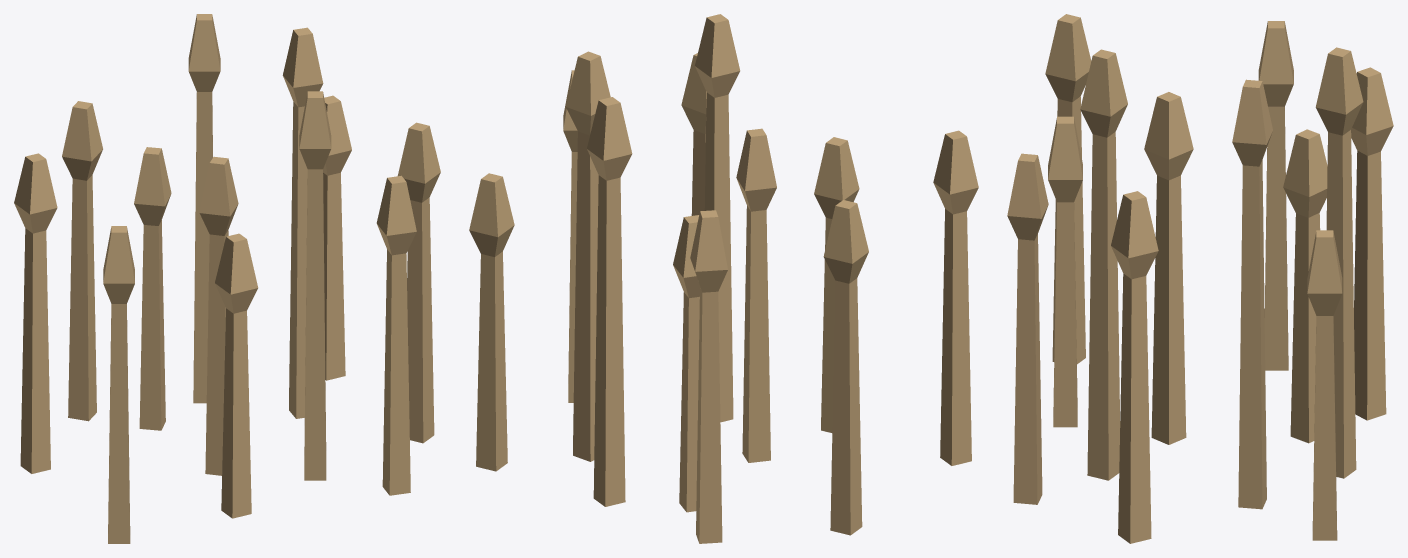
File: crops_wheatStageB.glb
3 renders of one model, left to right at view 1: azimuth 30°, elevation 25°; view 2: azimuth 150°, elevation 25°; view 3: azimuth 270°, elevation 25°, orthographic. The views are drawn at different scales.
Visible parts, largest first — view 1: crops_wheatStageB; view 2: crops_wheatStageB; view 3: crops_wheatStageB.
Boxes of the visible parts, bbox=[...] form: crops_wheatStageB: bbox=[14, 14, 440, 543]; crops_wheatStageB: bbox=[469, 14, 978, 543]; crops_wheatStageB: bbox=[1007, 14, 1393, 543].
Bounding box in the file's own units: 0.7555 × 0.7489 × 0.6254.
